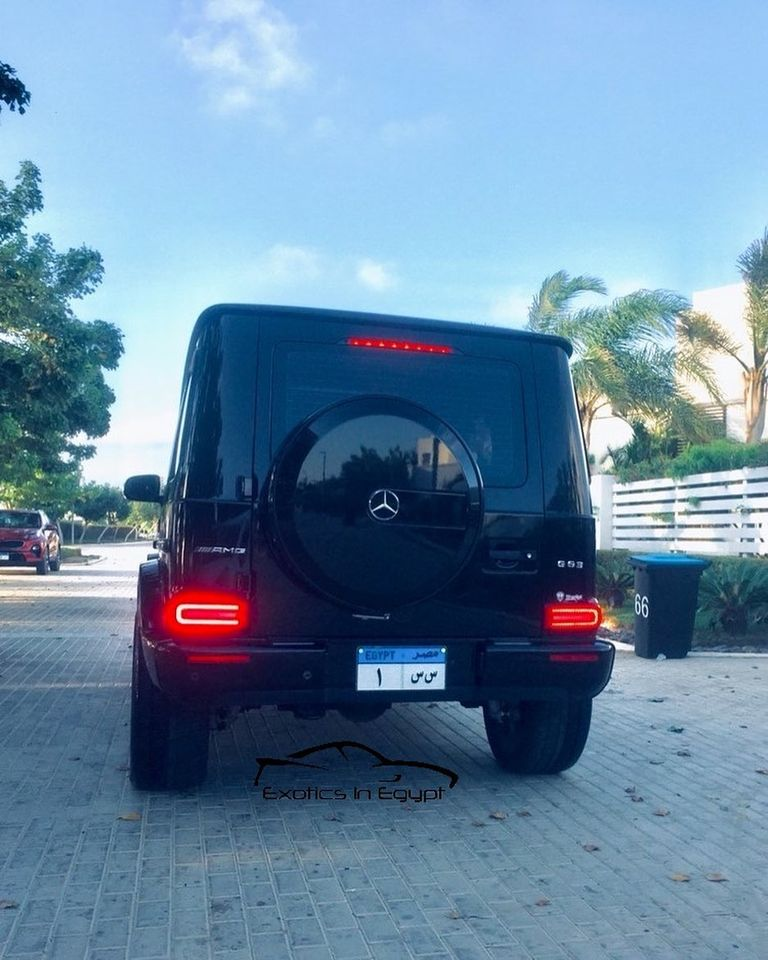carpl: (354, 649, 447, 693)
